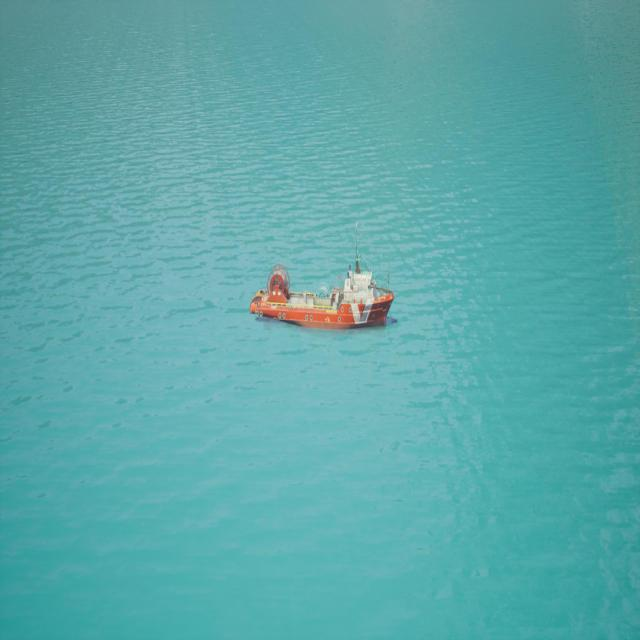tug boat: (252, 237, 396, 332)
